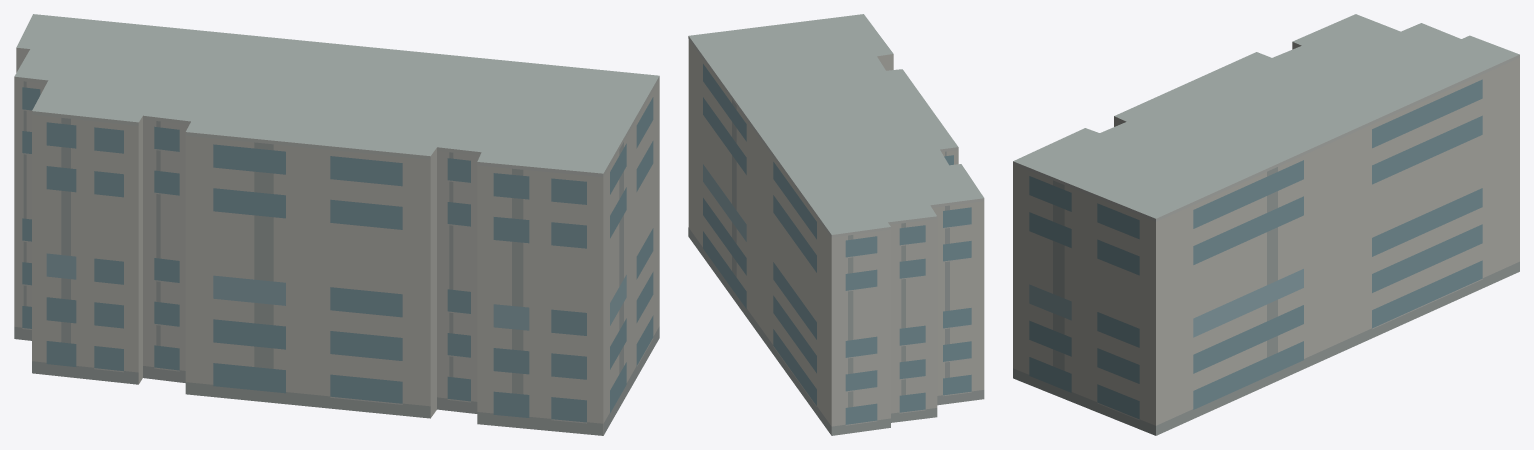
Rendered from survey-upis-32734402.glb.
3 views of the same model, side by side, from view 1: azimuth 30°, elevation 25°; view 2: azimuth 150°, elevation 25°; view 3: azimuth 270°, elevation 25° (orthographic). The views are drawn at different scales.
Parts seen in each view (by area): view 1: survey-upis-32734402.tmp; view 2: survey-upis-32734402.tmp; view 3: survey-upis-32734402.tmp.
Part boxes in pixels (x1,y1,x2,y2): survey-upis-32734402.tmp: (14, 14, 659, 435); survey-upis-32734402.tmp: (688, 14, 984, 435); survey-upis-32734402.tmp: (1013, 14, 1519, 435).
Bounding box in the file's own units: 35.61 × 17.6 × 37.24.
